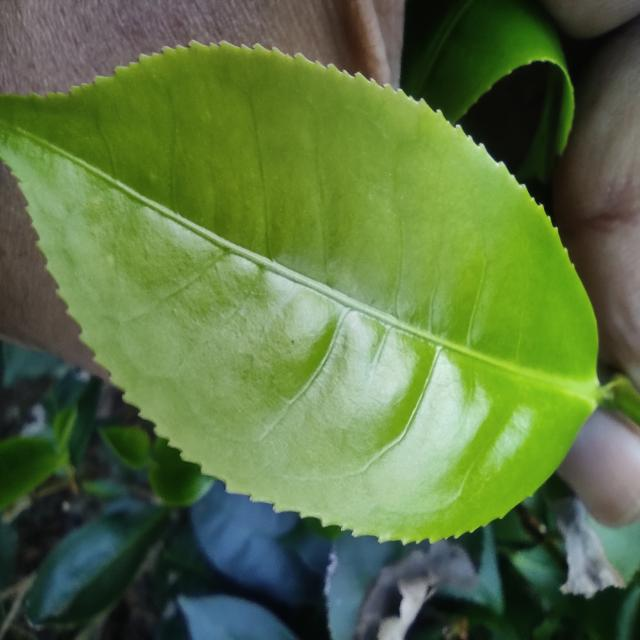Category C(4-7 days): (3, 41, 612, 550)
